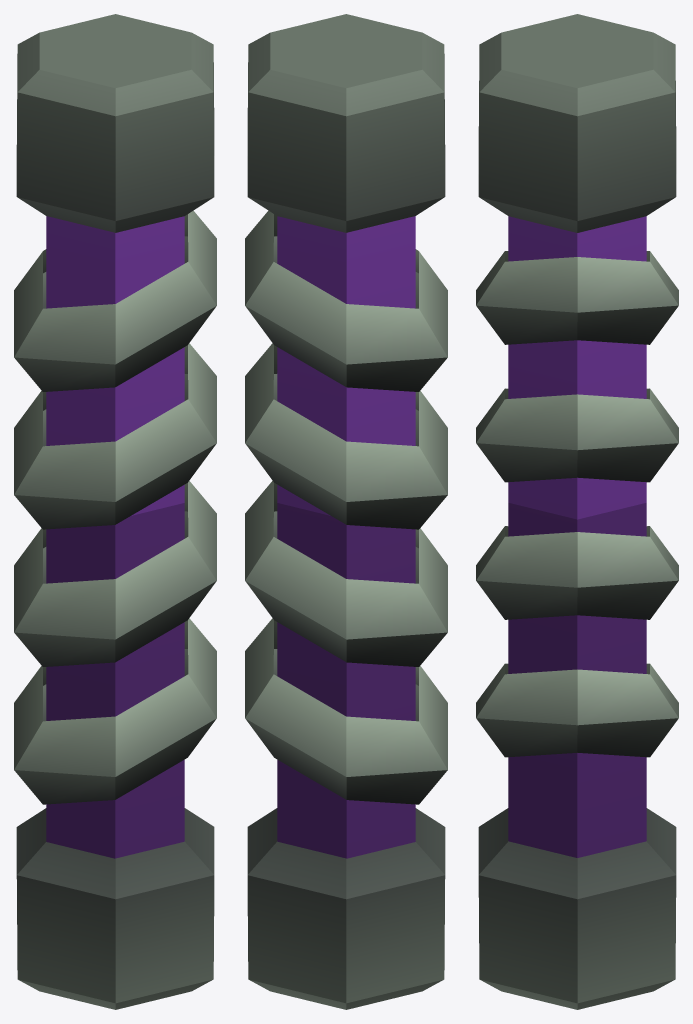
File: short-handle_013.fbx
3 renders of one model, left to right at view 1: azimuth 30°, elevation 25°; view 2: azimuth 150°, elevation 25°; view 3: azimuth 270°, elevation 25°, orthographic.
Parts seen in each view (by area): view 1: short-handle.013; view 2: short-handle.013; view 3: short-handle.013.
Part boxes in pixels (bbox=[...]): short-handle.013: bbox=[14, 14, 216, 1009]; short-handle.013: bbox=[245, 14, 447, 1009]; short-handle.013: bbox=[476, 14, 678, 1009].
Size of the model in its own units: 8.92 by 38.72 by 7.73.
